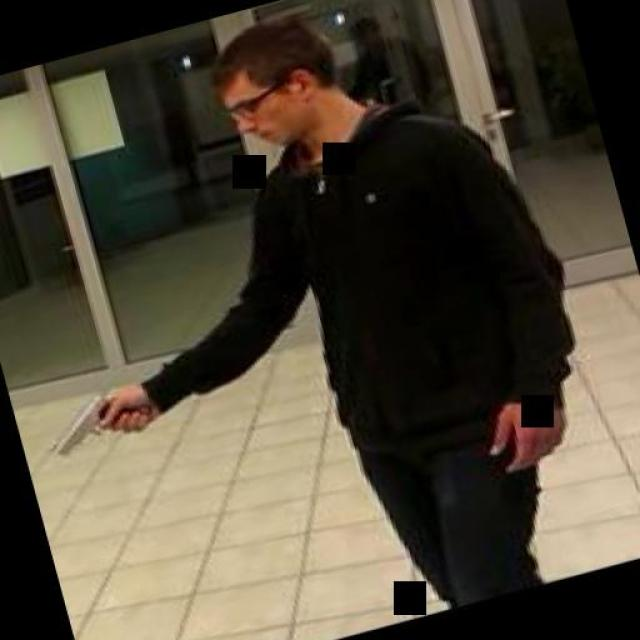gun: (36, 380, 148, 456)
